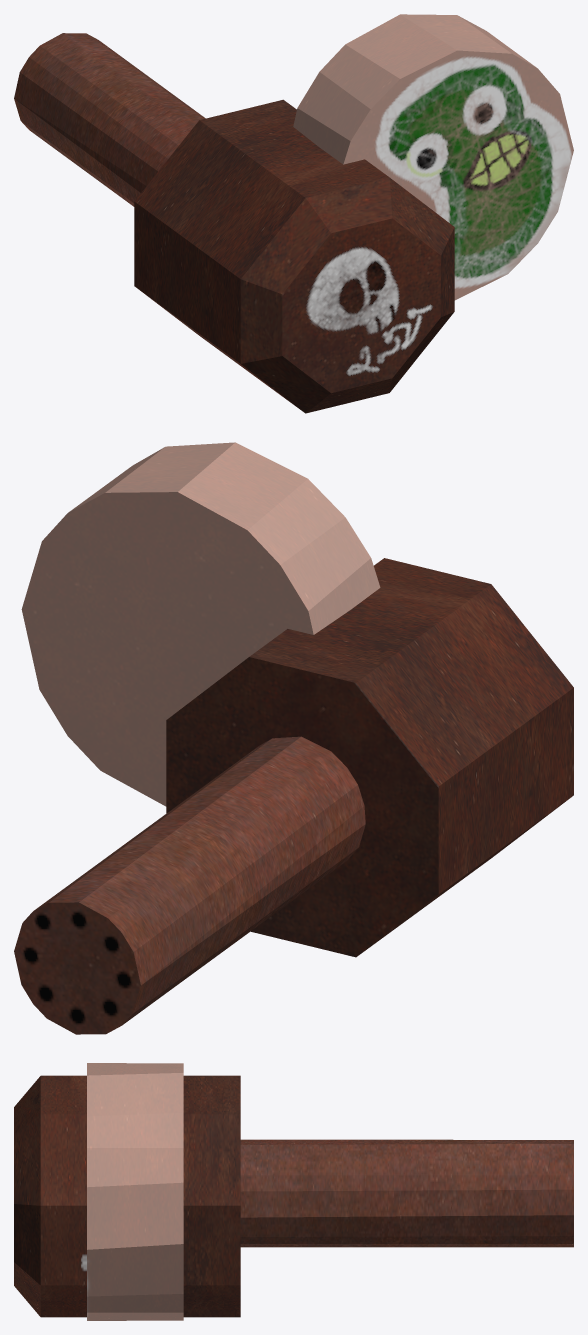
The model's file is Metralladora_1.glb.
3 views of the same model, one above another, from view 1: azimuth 30°, elevation 25°; view 2: azimuth 150°, elevation 25°; view 3: azimuth 270°, elevation 25° (orthographic). The views are drawn at different scales.
Parts seen in each view (by area): view 1: Cylinder.001; view 2: Cylinder.001; view 3: Cylinder.001.
Boxes of the visible parts, x1,y1,x2,y2 form: Cylinder.001: [14, 14, 573, 413]; Cylinder.001: [14, 442, 573, 1034]; Cylinder.001: [14, 1063, 573, 1320].
Size of the model in its own units: 1.12 by 0.9031 by 1.61.
1 material, 1 textured.
